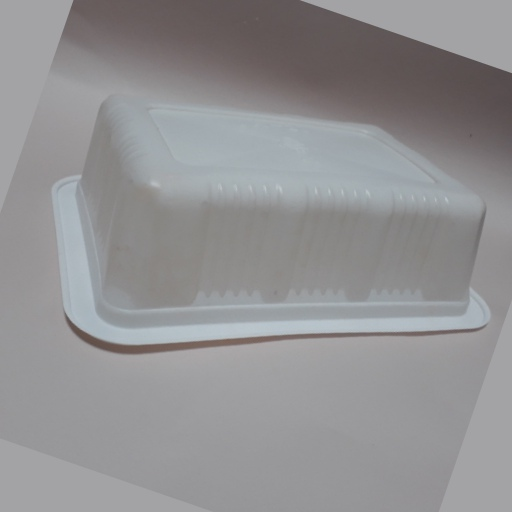Plastic_4: (48, 92, 504, 352)
